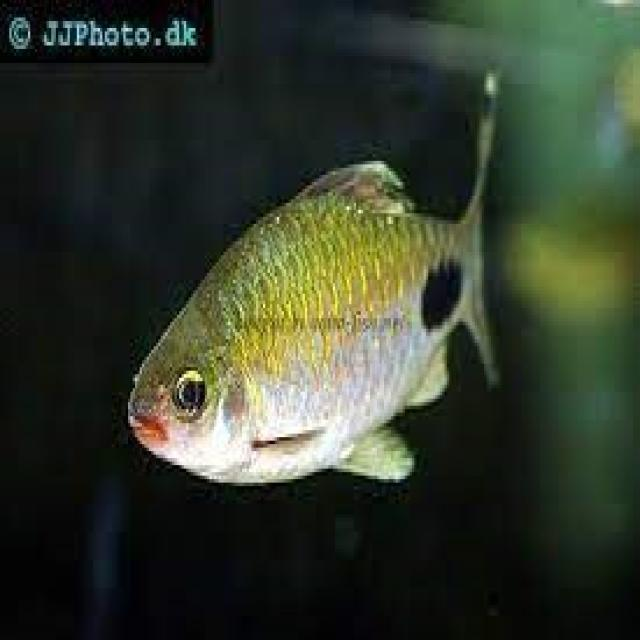Black-Spotted-Barb: (89, 60, 560, 486)
